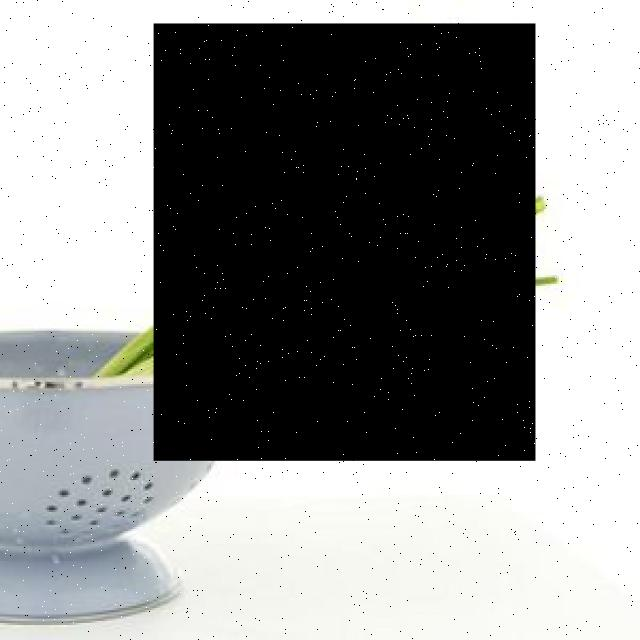Onion_Leaves: (154, 23, 536, 460)
